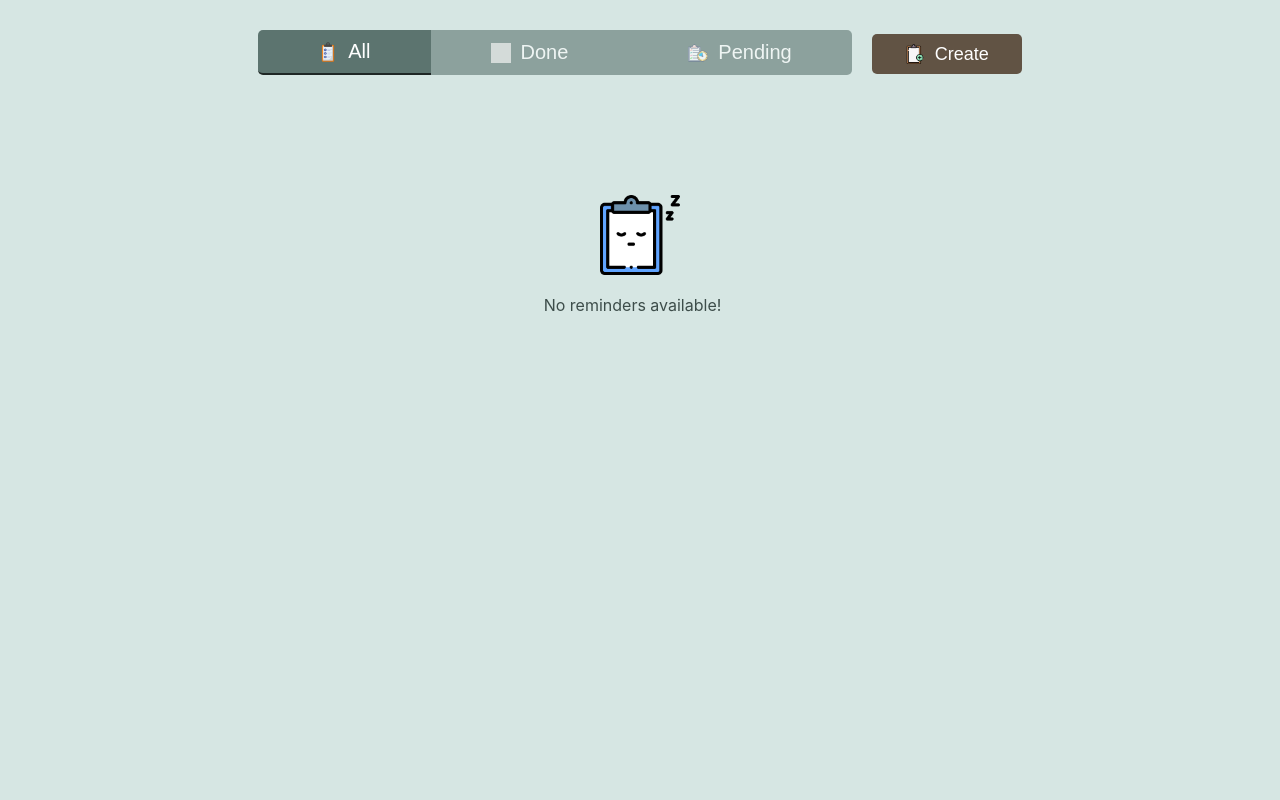
Test: <Dashboard /> › clicking on Create button opens Modal
Click the button "Create" at (947,54), box [872, 34, 1022, 74]
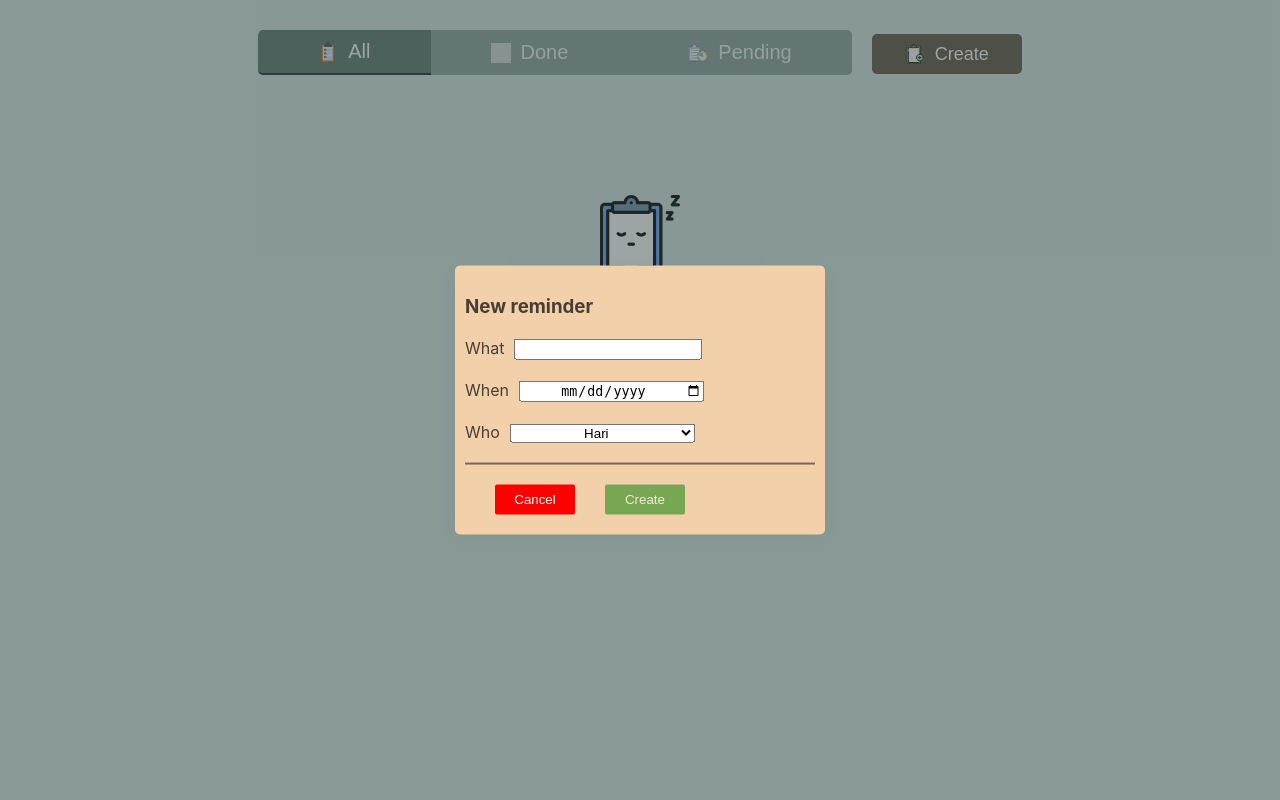
Expected: the element with test id "create-modal" is shown
